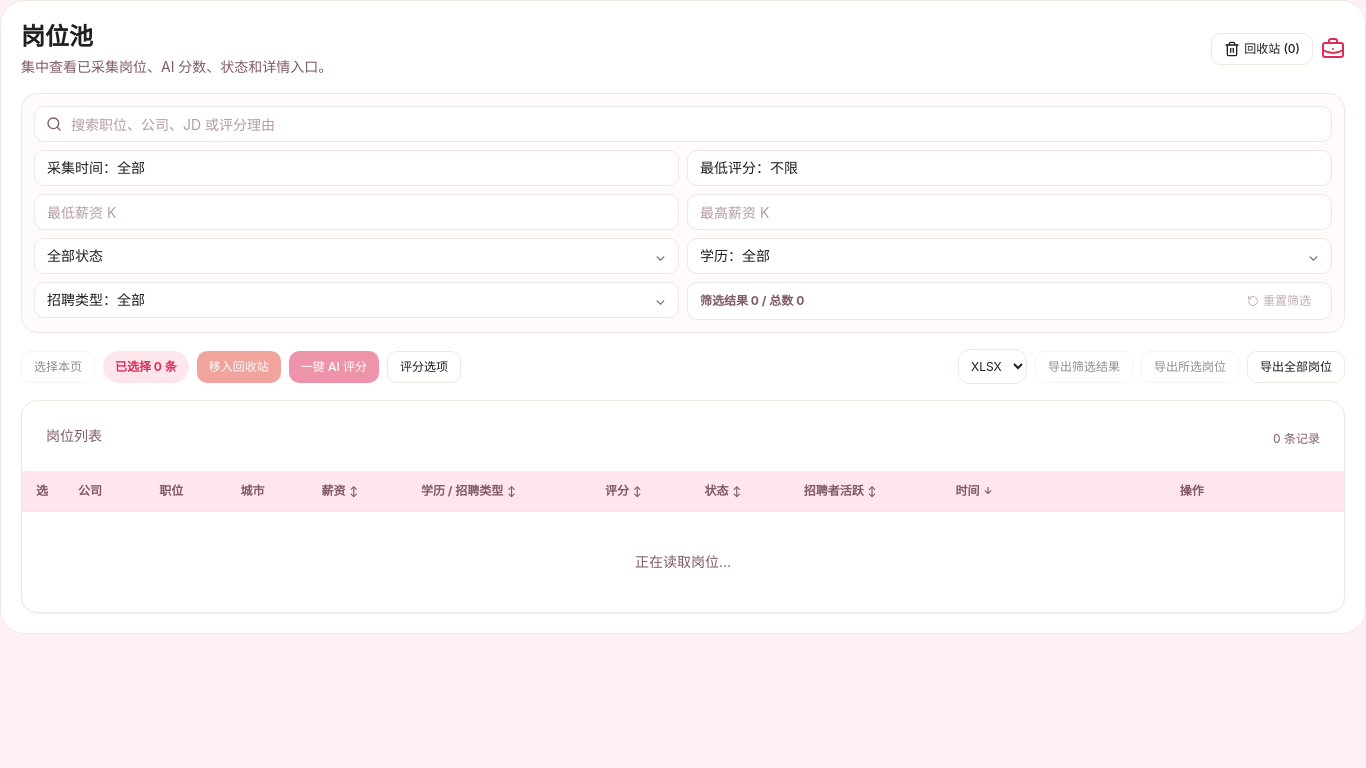
it: DashboardPage scoring dialog confirm behaviour › closes the scoring dialog and shows the started notice after scoring starts
The width and height of the screenshot is (1366, 768).
Click the button "评分选项" at (424, 366), box [387,350,461,382]
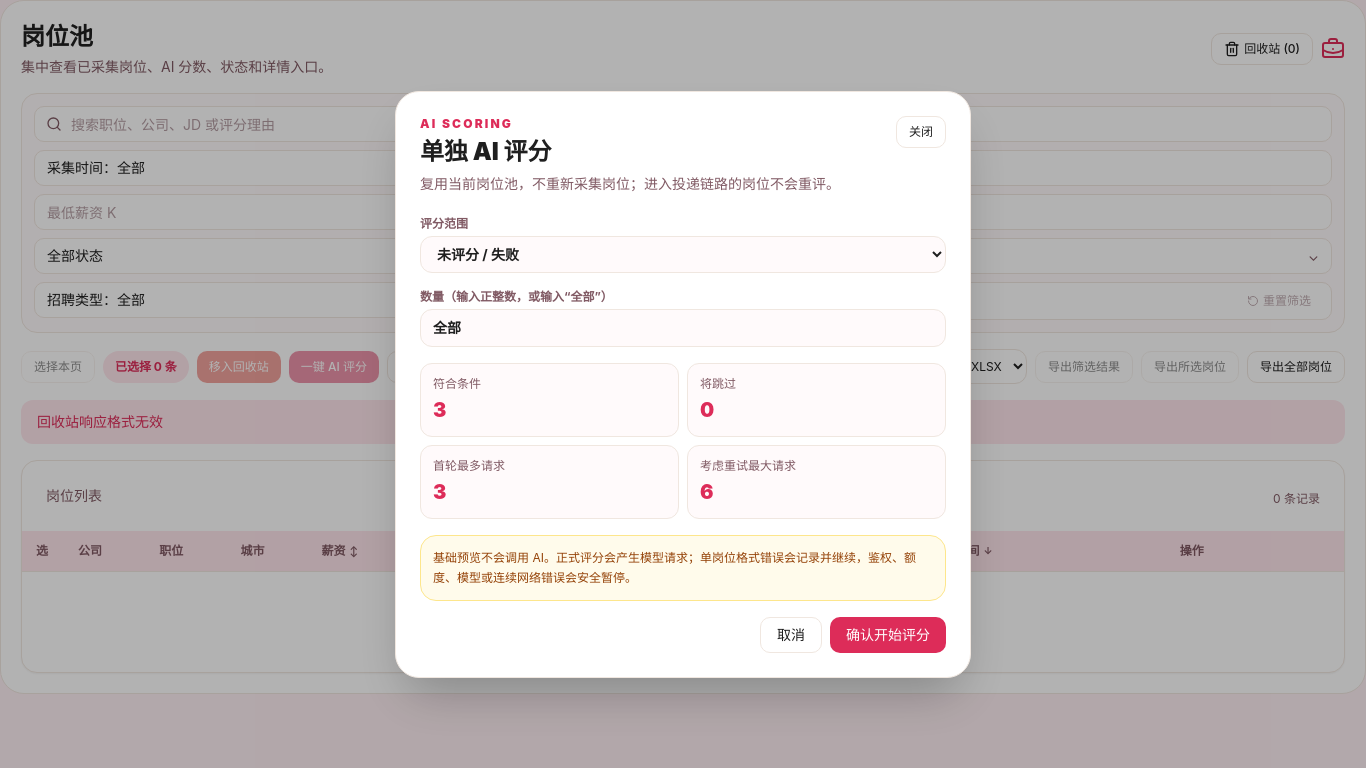
expect the text "符合条件" is shown: met, box [433,376,481,390]
Click the button "确认开始评分" at (888, 634), box [830,616,946,652]
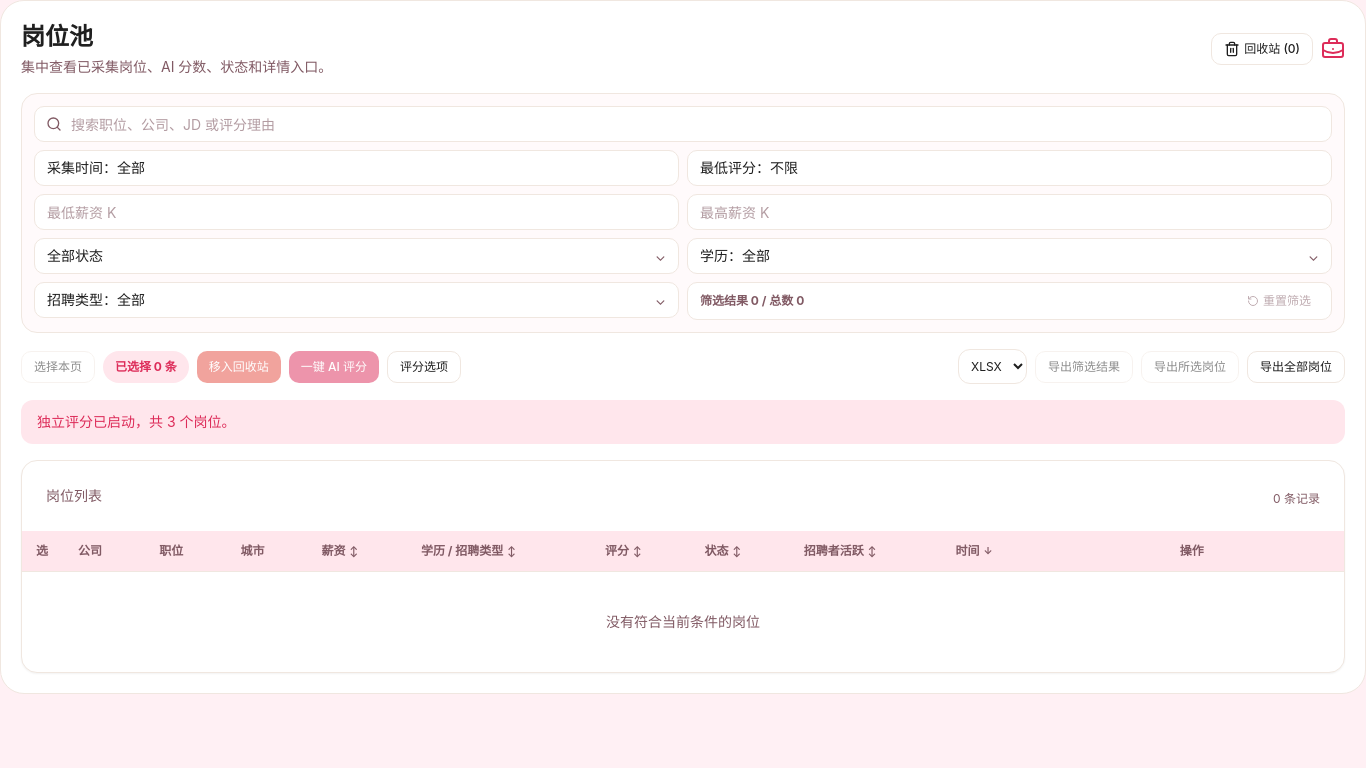
expect the text "独立评分已启动，共 3 个岗位。" is shown: met, box [21,400,1345,444]
expect the button "确认开始评分" is gone: met
